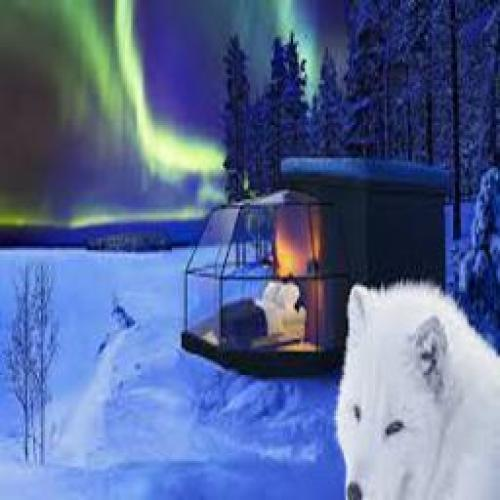arctic_fox-endangered: (331, 282, 500, 500)
